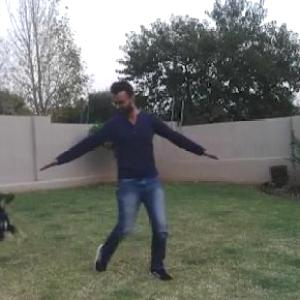land: (37, 87, 200, 266)
